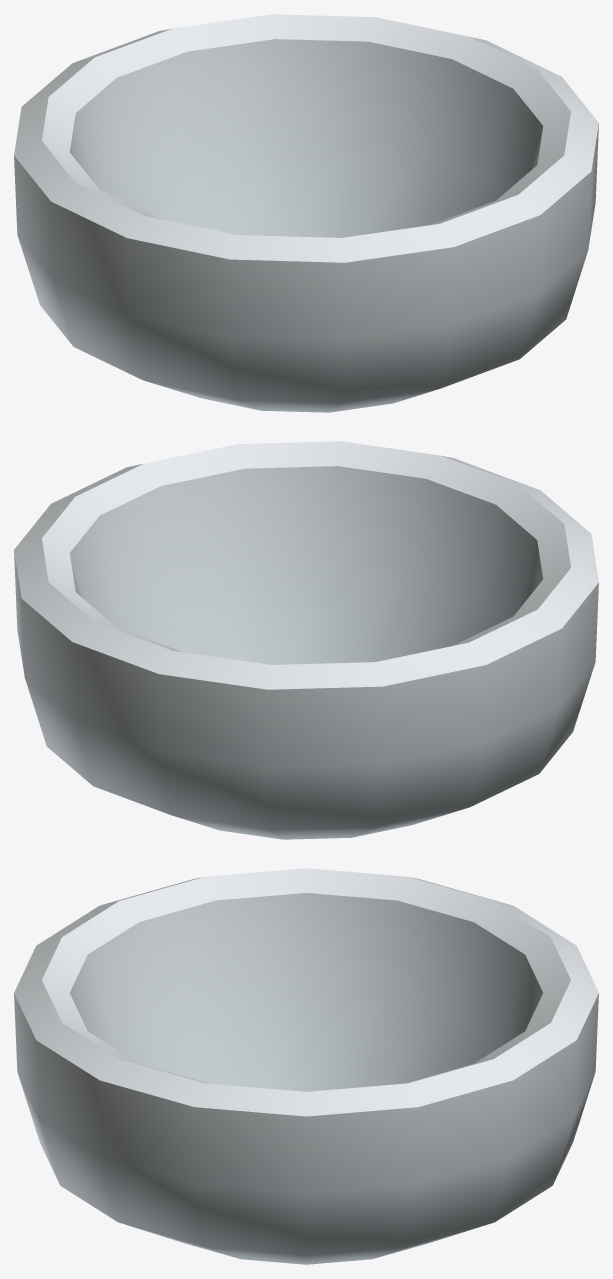
Rendered from bowl_small.obj.
3 renders of one model, top to bottom at view 1: azimuth 30°, elevation 25°; view 2: azimuth 150°, elevation 25°; view 3: azimuth 270°, elevation 25°, orthographic.
Parts seen in each view (by area): view 1: bowl_small_Sphere.096; view 2: bowl_small_Sphere.096; view 3: bowl_small_Sphere.096.
Part boxes in pixels (x1,y1,x2,y2): bowl_small_Sphere.096: [14, 14, 598, 412]; bowl_small_Sphere.096: [14, 441, 598, 839]; bowl_small_Sphere.096: [14, 868, 598, 1264].
Bounding box in the file's own units: 0.75 × 0.3 × 0.75.
Materials: 1 (1 with a texture image).
